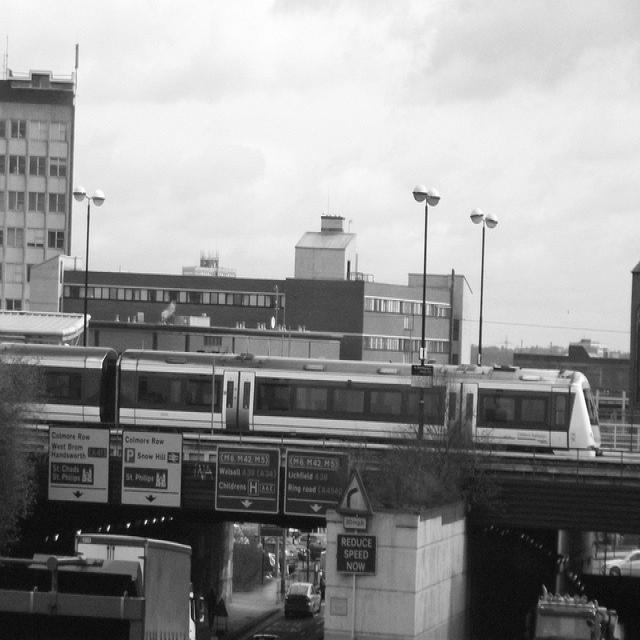car: (283, 578, 319, 614), (600, 548, 639, 575), (294, 531, 326, 553), (284, 535, 297, 573), (296, 548, 305, 560)
truck: (75, 533, 196, 639), (533, 580, 616, 639)
